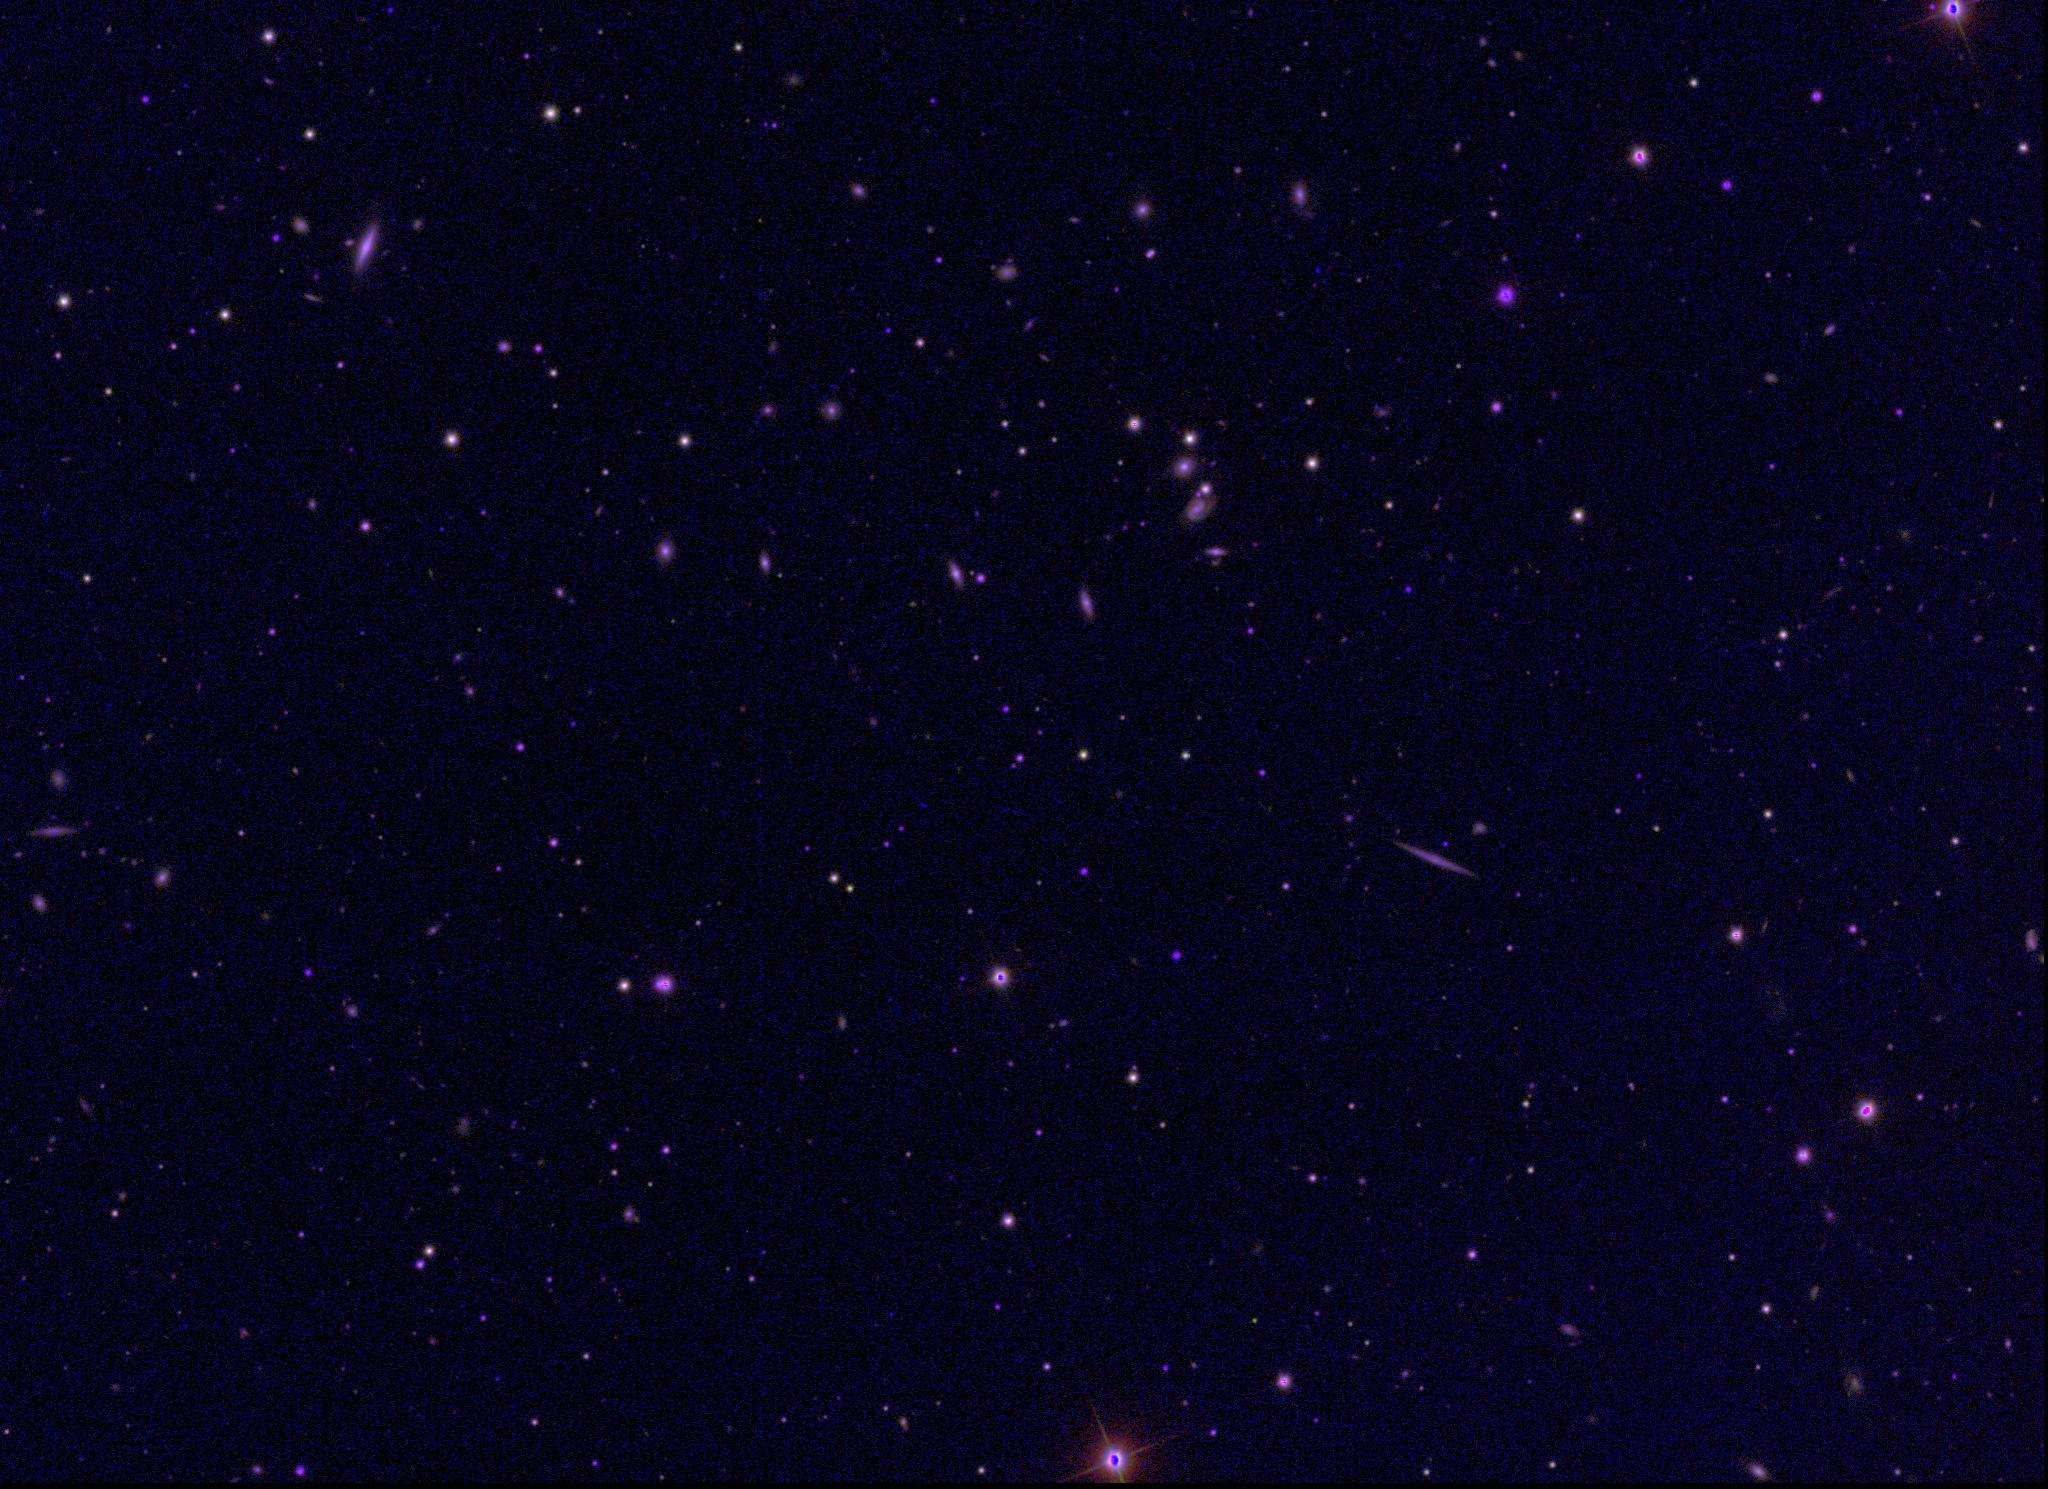L: (1310, 264, 1325, 278)
